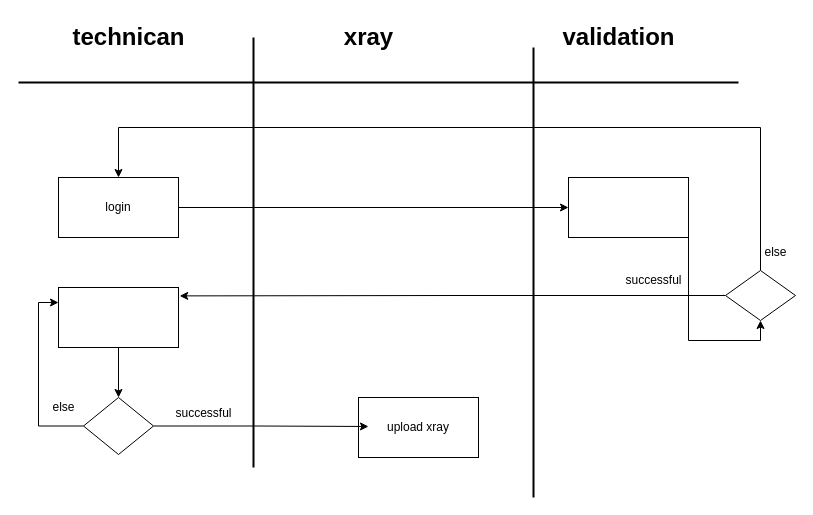
The diagram is 813 pixels wide and 515 high, and some of its shapes have lost their labels. Here are the shapes that lost their labels. From the top down, the centre of each, then its label:
(x=628, y=207): validate login
(x=118, y=317): confirm patient
